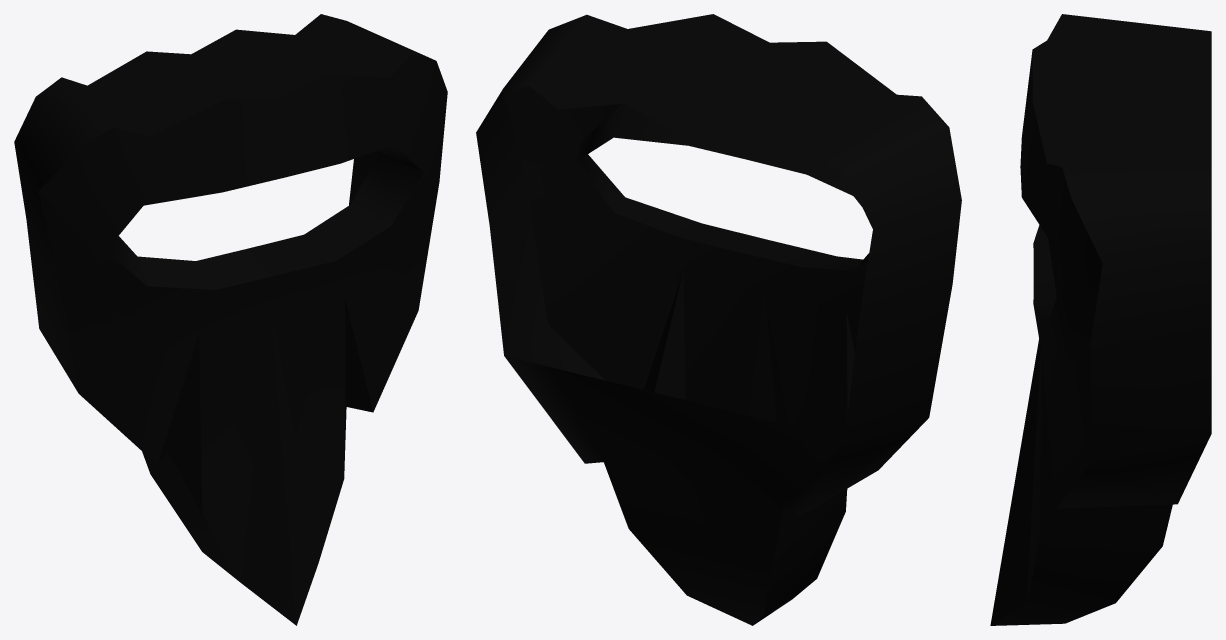
File: Mouth_D_Goatee_01.fbx
The picture shows the model from 3 angles, left to right: view 1: azimuth 30°, elevation 25°; view 2: azimuth 150°, elevation 25°; view 3: azimuth 270°, elevation 25°; orthographic projection. The views are drawn at different scales.
Visible parts, largest first — view 1: Mouth_D_Goatee_01; view 2: Mouth_D_Goatee_01; view 3: Mouth_D_Goatee_01.
Part boxes in pixels (left/top/right/bottom): Mouth_D_Goatee_01: left=14, top=14, right=447, bottom=625; Mouth_D_Goatee_01: left=476, top=14, right=961, bottom=625; Mouth_D_Goatee_01: left=990, top=14, right=1211, bottom=625.
Size of the model in its own units: 35.54 by 43.52 by 15.85.
